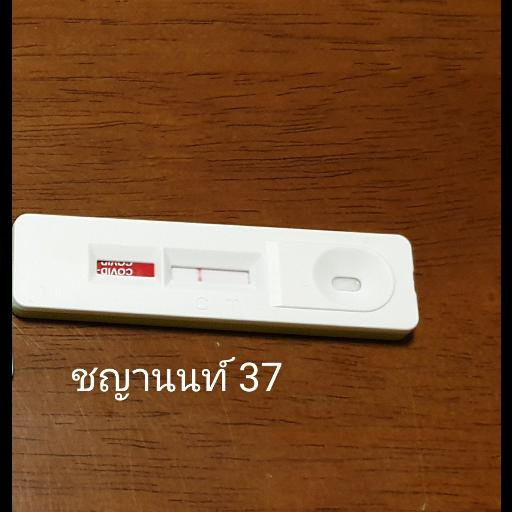Neg: (13, 214, 419, 332)
